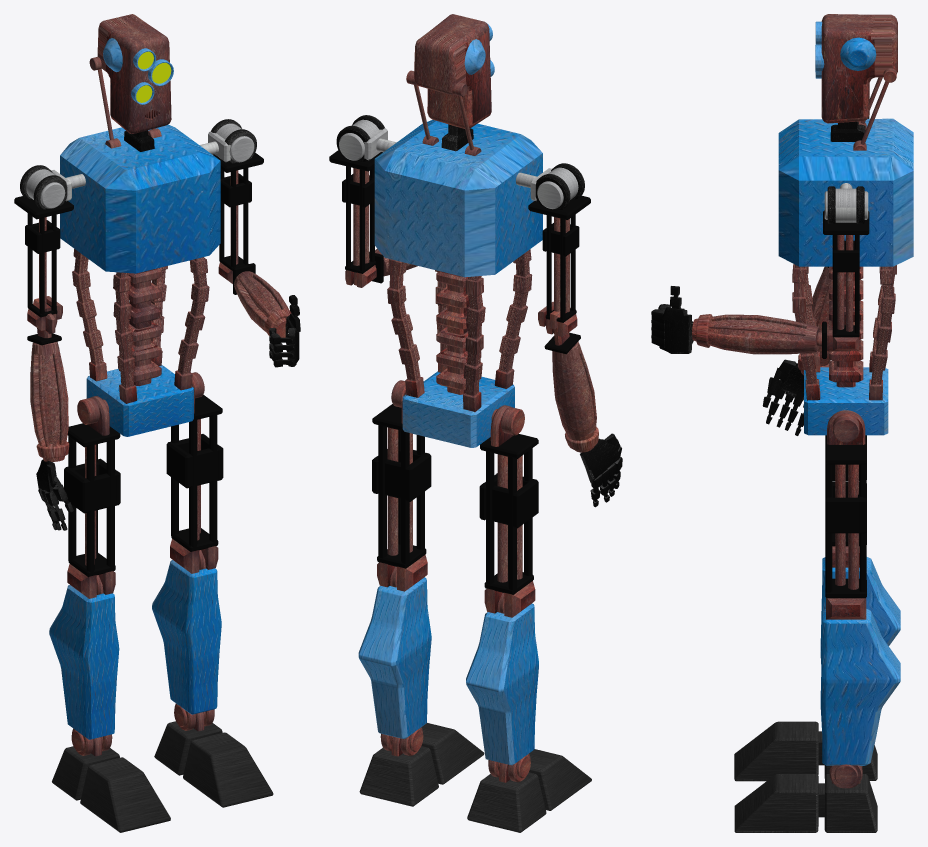
File: robot_OBJ.obj
3 views of the same model, side by side, from view 1: azimuth 30°, elevation 25°; view 2: azimuth 150°, elevation 25°; view 3: azimuth 270°, elevation 25° (orthographic). The views are drawn at different scales.
Visible parts, largest first — view 1: pCube3, pCube99, pCube87, pCube96, pCube83, pCube19, pCube97, pCube90, pCube1, pCylinder50, pCylinder48, pCube7 (+9 smaller); view 2: pCube3, pCube99, pCube87, pCube96, pCube83, pCube19, pCube1, pCylinder50, pCube100, pCube89, pCube10, pCube9 (+17 smaller); view 3: pCube3, pCube87, pCube19, pCube83, pCylinder48, pCube90, pCube97, pCube1, pCube89, pCube99, pCube10, pCube7 (+17 smaller).
Part boxes in pixels (bbox=[...]): pCube3: bbox=[60, 124, 220, 273]; pCube99: bbox=[49, 585, 119, 739]; pCube87: bbox=[152, 560, 221, 714]; pCube96: bbox=[64, 423, 120, 598]; pCube83: bbox=[166, 395, 223, 573]; pCube19: bbox=[97, 14, 171, 133]; pCube97: bbox=[80, 757, 170, 832]; pCube90: bbox=[183, 732, 273, 807]; pCube1: bbox=[86, 365, 193, 436]; pCylinder50: bbox=[30, 341, 69, 461]; pCylinder48: bbox=[234, 271, 291, 337]; pCube7: bbox=[174, 257, 209, 390]; pCube3: bbox=[374, 120, 542, 277]; pCube99: bbox=[466, 603, 538, 765]; pCube87: bbox=[358, 577, 431, 738]; pCube96: bbox=[479, 434, 538, 617]; pCube83: bbox=[372, 404, 431, 591]; pCube19: bbox=[414, 14, 491, 128]; pCube1: bbox=[402, 371, 514, 447]; pCylinder50: bbox=[552, 341, 598, 452]; pCube100: bbox=[467, 772, 546, 832]; pCube89: bbox=[359, 746, 438, 806]; pCube10: bbox=[387, 259, 424, 397]; pCube9: bbox=[463, 276, 485, 412]; pCube3: bbox=[778, 118, 913, 266]; pCube87: bbox=[820, 608, 900, 765]; pCube19: bbox=[821, 14, 897, 123]; pCube83: bbox=[825, 441, 866, 619]; pCylinder48: bbox=[692, 314, 819, 354]; pCube90: bbox=[734, 774, 818, 832]; pCube97: bbox=[734, 721, 818, 781]; pCube1: bbox=[804, 367, 888, 435]; pCube89: bbox=[824, 774, 877, 832]; pCube99: bbox=[820, 557, 900, 663]; pCube10: bbox=[869, 266, 895, 400]; pCube7: bbox=[792, 264, 820, 400].
Size of the model in its own units: 3.36 by 10.08 by 3.1.
